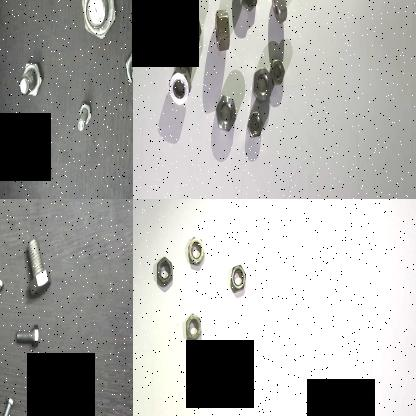Bolts: (76, 0, 124, 47), (25, 235, 56, 304), (17, 56, 48, 108), (71, 99, 93, 143), (14, 322, 42, 352), (122, 49, 133, 93), (0, 272, 8, 326), (0, 392, 16, 416)
NUTS: (165, 68, 194, 112), (214, 94, 238, 136), (178, 8, 203, 48), (251, 66, 275, 104), (186, 232, 206, 272), (185, 310, 205, 350), (228, 262, 249, 298), (155, 255, 175, 291), (218, 343, 238, 379), (247, 108, 266, 140), (267, 56, 287, 86), (176, 54, 196, 78), (270, 0, 288, 24), (238, 0, 260, 14), (167, 0, 185, 17)
